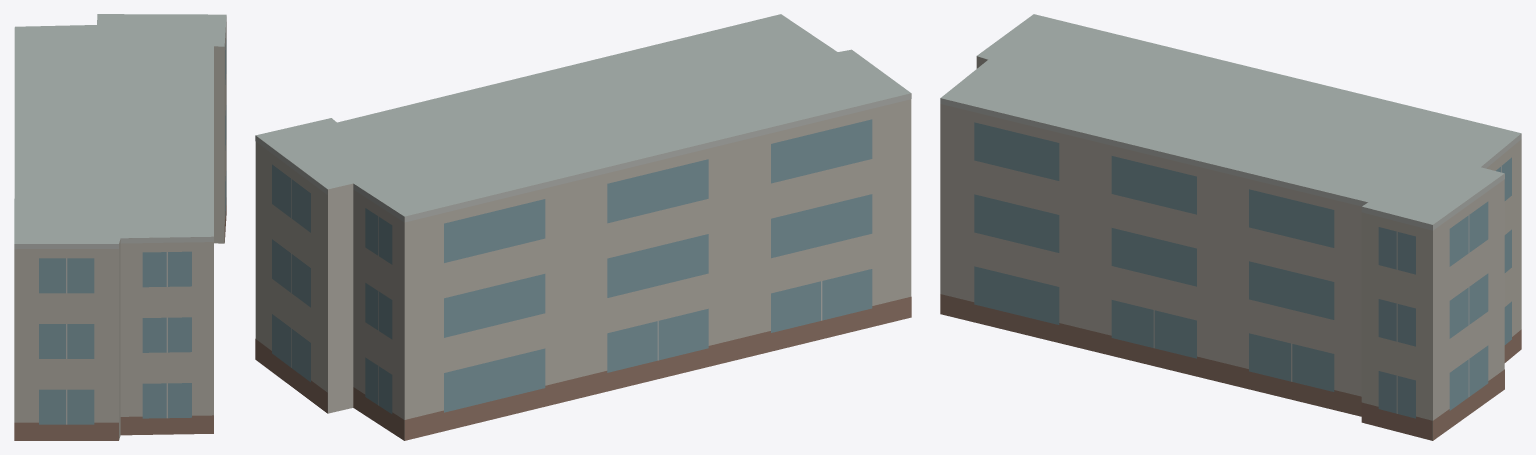
The model's file is survey-upis-32642690.glb.
The picture shows the model from 3 angles, left to right: view 1: azimuth 30°, elevation 25°; view 2: azimuth 150°, elevation 25°; view 3: azimuth 270°, elevation 25°; orthographic projection. The views are drawn at different scales.
Visible parts, largest first — view 1: survey-upis-32642690.tmp; view 2: survey-upis-32642690.tmp; view 3: survey-upis-32642690.tmp.
Part boxes in pixels (x1,y1,x2,y2): survey-upis-32642690.tmp: (14, 14, 226, 440); survey-upis-32642690.tmp: (255, 14, 911, 440); survey-upis-32642690.tmp: (940, 14, 1521, 440).
Bounding box in the file's own units: 19.17 × 9.15 × 22.32.
